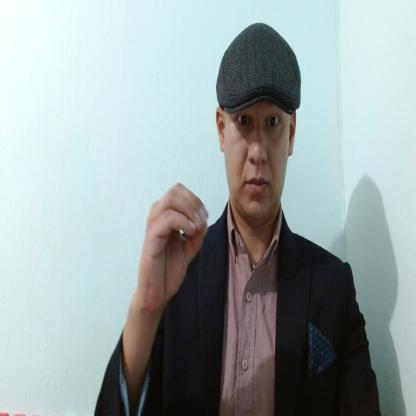O: (138, 179, 210, 311)
